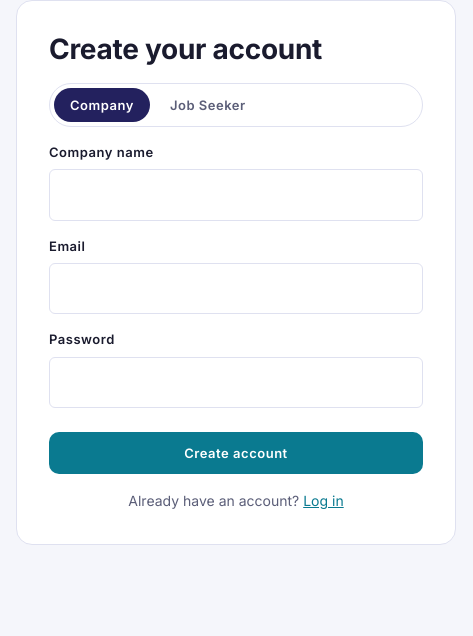
Test case: AuthForm › blocks submit while any field is invalid and sends no request
Click the button "Create account": click(236, 453) x1=49 y1=432 x2=423 y2=474
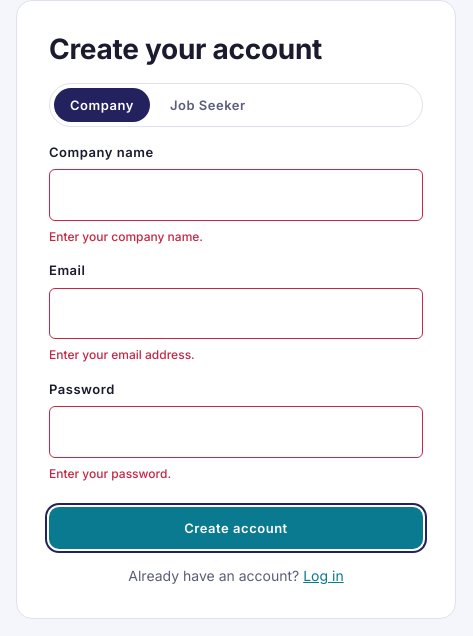
Check: the text "Enter your company name." is shown, box x1=49 y1=229 x2=203 y2=244
Check: the text "Enter your email address." is shown, box x1=49 y1=347 x2=195 y2=362
Check: the text "Enter your password." is shown, box x1=49 y1=466 x2=171 y2=481
